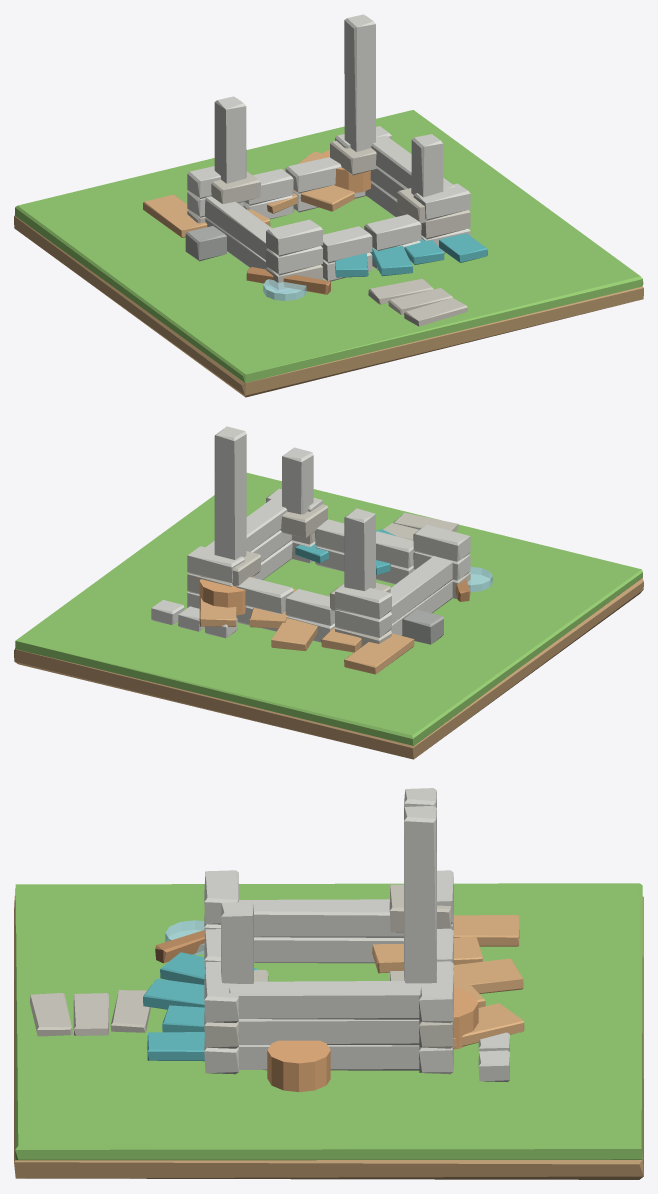
File: tower_l05_ruined_LOD1.glb
3 views of the same model, one above another, from view 1: azimuth 30°, elevation 25°; view 2: azimuth 150°, elevation 25°; view 3: azimuth 270°, elevation 25° (orthographic). The views are drawn at different scales.
Visible parts, largest first — view 1: tower_l05_grass_tile_tower_l05_ruined_LOD1_tmp, tower_l05_earth_tile_tower_l05_ruined_LOD1_tmp, snapped_upright_0.58_0.52_tower_l05_ruined_LOD1_tmp, snapped_upright_-0.58_0.52_tower_l05_ruined_LOD1_tmp, ruin_stone_return_1_-0.72_tower_l05_ruined_LOD1_tmp, snapped_upright_0.58_-0.52_tower_l05_ruined_LOD1_tmp, ruin_stone_course_2_-1_0_tower_l05_ruined_LOD1_tmp, ruin_stone_course_1_-1_2_tower_l05_ruined_LOD1_tmp, ruin_stone_return_2_0.72_tower_l05_ruined_LOD1_tmp, collapsed_deck_0_tower_l05_ruined_LOD1_tmp, ruin_stone_course_1_-1_1_tower_l05_ruined_LOD1_tmp, ruin_stone_course_1_1_2_tower_l05_ruined_LOD1_tmp (+24 smaller); view 2: tower_l05_grass_tile_tower_l05_ruined_LOD1_tmp, tower_l05_earth_tile_tower_l05_ruined_LOD1_tmp, snapped_upright_0.58_0.52_tower_l05_ruined_LOD1_tmp, snapped_upright_-0.58_0.52_tower_l05_ruined_LOD1_tmp, ruin_stone_return_1_-0.72_tower_l05_ruined_LOD1_tmp, snapped_upright_0.58_-0.52_tower_l05_ruined_LOD1_tmp, collapsed_deck_0_tower_l05_ruined_LOD1_tmp, ruin_stone_course_2_-1_0_tower_l05_ruined_LOD1_tmp, ruin_stone_course_2_1_0_tower_l05_ruined_LOD1_tmp, ruin_stone_return_2_0.72_tower_l05_ruined_LOD1_tmp, ruin_stone_course_1_1_1_tower_l05_ruined_LOD1_tmp, ruin_stone_course_1_1_2_tower_l05_ruined_LOD1_tmp (+20 smaller); view 3: tower_l05_grass_tile_tower_l05_ruined_LOD1_tmp, tower_l05_earth_tile_tower_l05_ruined_LOD1_tmp, ruin_stone_return_2_0.72_tower_l05_ruined_LOD1_tmp, snapped_upright_0.58_0.52_tower_l05_ruined_LOD1_tmp, ruin_stone_return_1_-0.72_tower_l05_ruined_LOD1_tmp, ruin_stone_return_1_0.72_tower_l05_ruined_LOD1_tmp, ruin_stone_return_0_-0.72_tower_l05_ruined_LOD1_tmp, ruin_stone_return_0_0.72_tower_l05_ruined_LOD1_tmp, fallen_bell_tower_l05_ruined_LOD1_tmp, snapped_upright_0.58_-0.52_tower_l05_ruined_LOD1_tmp, collapsed_deck_0_tower_l05_ruined_LOD1_tmp, collapsed_deck_2_tower_l05_ruined_LOD1_tmp (+25 smaller).
Part boxes in pixels (box(x1,y1,x2,y2)): tower_l05_grass_tile_tower_l05_ruined_LOD1_tmp: box(15, 110, 643, 383); tower_l05_earth_tile_tower_l05_ruined_LOD1_tmp: box(14, 215, 643, 397); snapped_upright_0.58_0.52_tower_l05_ruined_LOD1_tmp: box(344, 14, 375, 151); snapped_upright_-0.58_0.52_tower_l05_ruined_LOD1_tmp: box(214, 96, 246, 183); ruin_stone_return_1_-0.72_tower_l05_ruined_LOD1_tmp: box(205, 196, 271, 260); snapped_upright_0.58_-0.52_tower_l05_ruined_LOD1_tmp: box(411, 134, 443, 197); ruin_stone_course_2_-1_0_tower_l05_ruined_LOD1_tmp: box(266, 219, 322, 256); ruin_stone_course_1_-1_2_tower_l05_ruined_LOD1_tmp: box(364, 214, 421, 250); ruin_stone_return_2_0.72_tower_l05_ruined_LOD1_tmp: box(371, 135, 454, 188); collapsed_deck_0_tower_l05_ruined_LOD1_tmp: box(143, 194, 207, 237); ruin_stone_course_1_-1_1_tower_l05_ruined_LOD1_tmp: box(321, 226, 372, 263); ruin_stone_course_1_1_2_tower_l05_ruined_LOD1_tmp: box(285, 157, 341, 193); tower_l05_grass_tile_tower_l05_ruined_LOD1_tmp: box(15, 472, 642, 746); tower_l05_earth_tile_tower_l05_ruined_LOD1_tmp: box(14, 578, 643, 759); snapped_upright_0.58_0.52_tower_l05_ruined_LOD1_tmp: box(214, 426, 246, 559); snapped_upright_-0.58_0.52_tower_l05_ruined_LOD1_tmp: box(344, 508, 375, 591); ruin_stone_return_1_-0.72_tower_l05_ruined_LOD1_tmp: box(390, 556, 452, 623); snapped_upright_0.58_-0.52_tower_l05_ruined_LOD1_tmp: box(282, 447, 313, 514); collapsed_deck_0_tower_l05_ruined_LOD1_tmp: box(344, 633, 414, 674); ruin_stone_course_2_-1_0_tower_l05_ruined_LOD1_tmp: box(413, 524, 470, 561); ruin_stone_course_2_1_0_tower_l05_ruined_LOD1_tmp: box(335, 585, 391, 619); ruin_stone_return_2_0.72_tower_l05_ruined_LOD1_tmp: box(205, 496, 287, 551); ruin_stone_course_1_1_1_tower_l05_ruined_LOD1_tmp: box(285, 589, 334, 625); ruin_stone_course_1_1_2_tower_l05_ruined_LOD1_tmp: box(236, 577, 293, 613); tower_l05_grass_tile_tower_l05_ruined_LOD1_tmp: box(15, 883, 642, 1160); tower_l05_earth_tile_tower_l05_ruined_LOD1_tmp: box(14, 896, 643, 1179); ruin_stone_return_2_0.72_tower_l05_ruined_LOD1_tmp: box(229, 981, 427, 1019); snapped_upright_0.58_0.52_tower_l05_ruined_LOD1_tmp: box(404, 805, 436, 983); ruin_stone_return_1_-0.72_tower_l05_ruined_LOD1_tmp: box(239, 899, 403, 937); ruin_stone_return_1_0.72_tower_l05_ruined_LOD1_tmp: box(238, 1019, 419, 1045); ruin_stone_return_0_-0.72_tower_l05_ruined_LOD1_tmp: box(254, 937, 403, 963); ruin_stone_return_0_0.72_tower_l05_ruined_LOD1_tmp: box(238, 1044, 419, 1070); fallen_bell_tower_l05_ruined_LOD1_tmp: box(267, 1040, 330, 1092); snapped_upright_0.58_-0.52_tower_l05_ruined_LOD1_tmp: box(221, 901, 253, 983); collapsed_deck_0_tower_l05_ruined_LOD1_tmp: box(453, 915, 519, 946); collapsed_deck_2_tower_l05_ruined_LOD1_tmp: box(453, 958, 523, 993).
Bounding box in the file's own units: 3.6 × 1.76 × 3.58.
